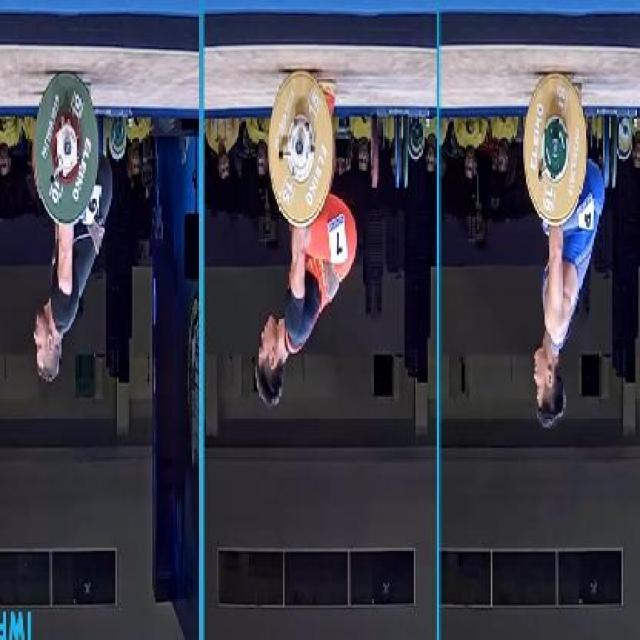Barbell: (292, 134, 306, 164), (60, 133, 74, 161), (551, 133, 560, 161)
